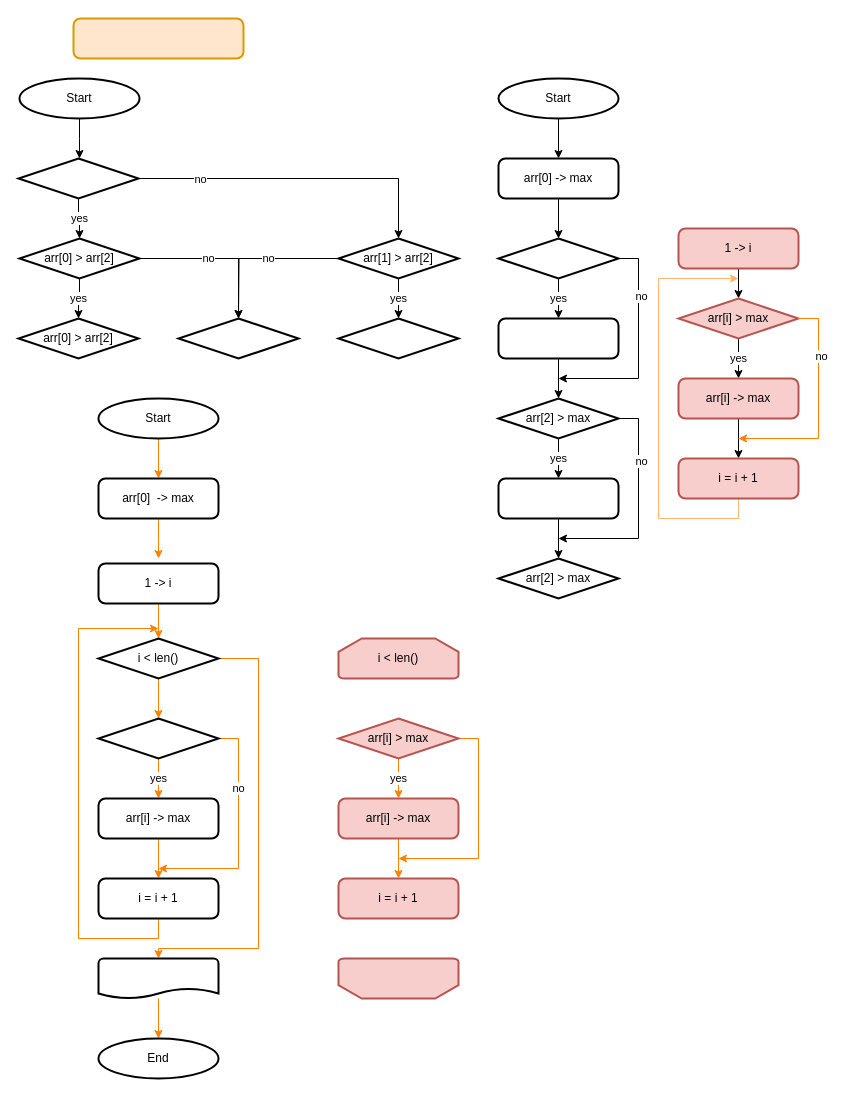
Some shapes in this 844 by 1096 pixel diagram are drawn without their labels. Each missing label, with the box of its shape:
arr[0] > arr[1]: (17, 157, 139, 199)
arr[1] -> max: (497, 317, 619, 359)
arr[1] > arr[3]: (337, 317, 459, 359)
arr[1] > max: (497, 237, 619, 279)
arr[2] -> max: (497, 477, 619, 519)
arr[2] > arr[3]: (177, 317, 299, 359)
arr[i]>max: (97, 717, 219, 759)
max: (97, 957, 219, 999)
최대값을 찾는 알고리즘: (72, 17, 244, 59)
